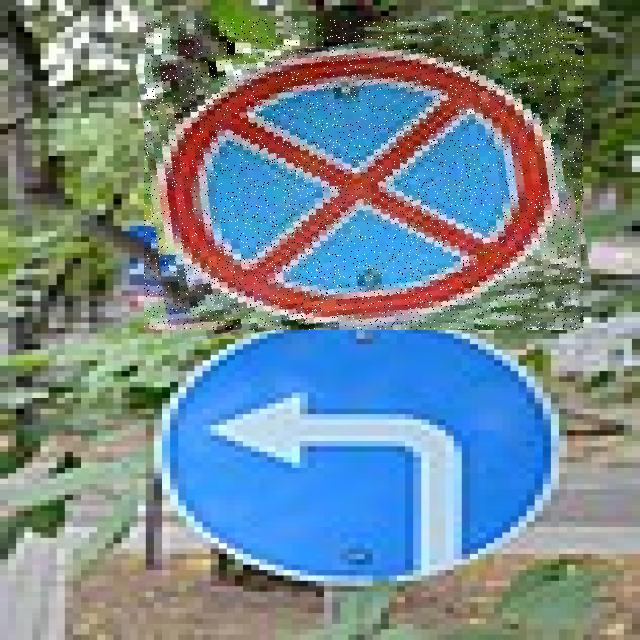no stopping: (144, 19, 584, 330)
